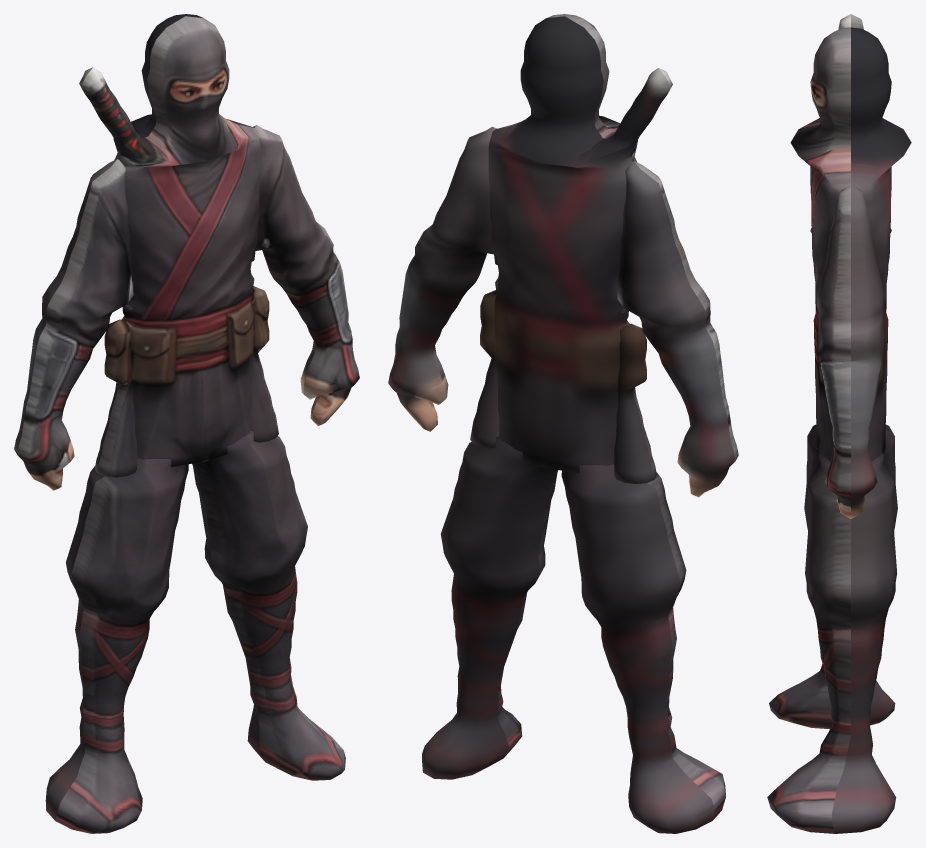
Rendered from char_ninja.glb.
3 views of the same model, side by side, from view 1: azimuth 30°, elevation 25°; view 2: azimuth 150°, elevation 25°; view 3: azimuth 270°, elevation 25° (orthographic). The views are drawn at different scales.
Visible parts, largest first — view 1: Torso, LegA, LegB, ArmA, ArmB; view 2: Torso, LegA, LegB, ArmA, ArmB; view 3: LegB, Torso, ArmB, LegA.
Part boxes in pixels (box(x1,y1,x2,y2)): Torso: box(79, 14, 260, 467); LegA: box(45, 458, 188, 833); LegB: box(192, 430, 345, 780); ArmA: box(14, 159, 137, 490); ArmB: box(250, 125, 359, 442); Torso: box(488, 14, 672, 473); LegA: box(561, 464, 725, 833); LegB: box(422, 436, 558, 779); ArmA: box(613, 161, 738, 497); ArmB: box(388, 126, 499, 448); LegB: box(767, 452, 897, 833); Torso: box(790, 14, 911, 461); ArmB: box(816, 185, 885, 518); LegA: box(769, 424, 897, 729).
Size of the model in its own units: 0.6902 by 1.5 by 0.2639.
1 material, 1 textured.
